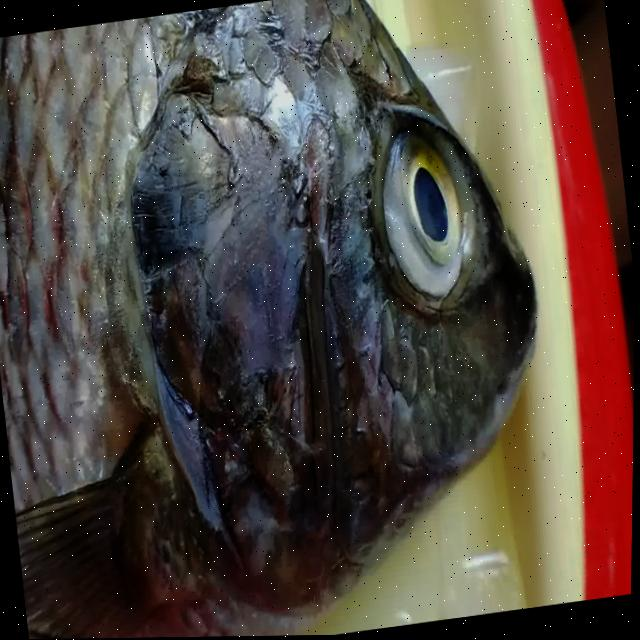Fresh: (0, 0, 347, 640), (358, 92, 501, 324)
